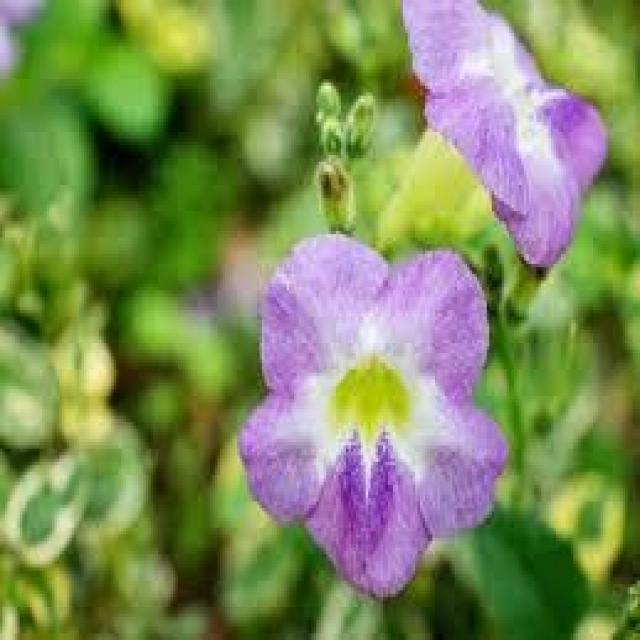organic waste: (255, 230, 489, 582), (409, 8, 614, 269)
